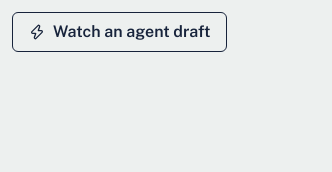
Test: SimulateButton › can't be pressed again while the draft is on its way
Later steps or results of the test are not shown.
Click the button: (120, 32) [12,12,228,52]
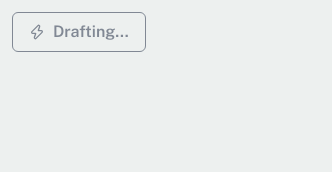
expect the button is disabled: met, box [12,12,146,52]
